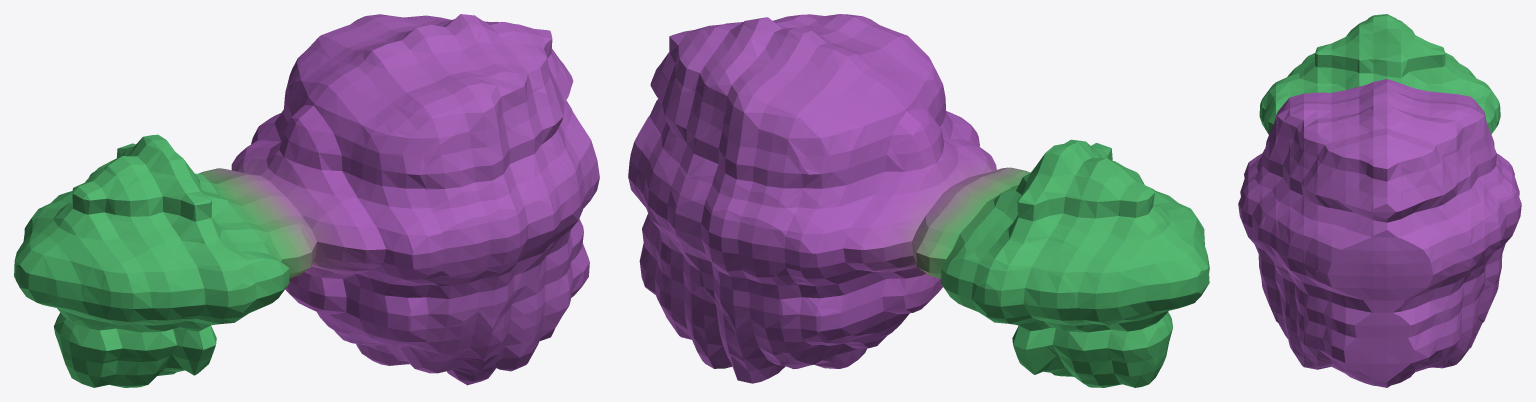
3 renders of one model, left to right at view 1: azimuth 30°, elevation 25°; view 2: azimuth 150°, elevation 25°; view 3: azimuth 270°, elevation 25°, orthographic. The views are drawn at different scales.
Parts seen in each view (by area): view 1: geometry_0; view 2: geometry_0; view 3: geometry_0.
Part boxes in pixels (box(x1,y1,x2,y2)): geometry_0: box(14, 14, 599, 387); geometry_0: box(628, 14, 1209, 387); geometry_0: box(1238, 14, 1521, 387).
Size of the model in its own units: 1.59 by 0.9224 by 0.8693.
